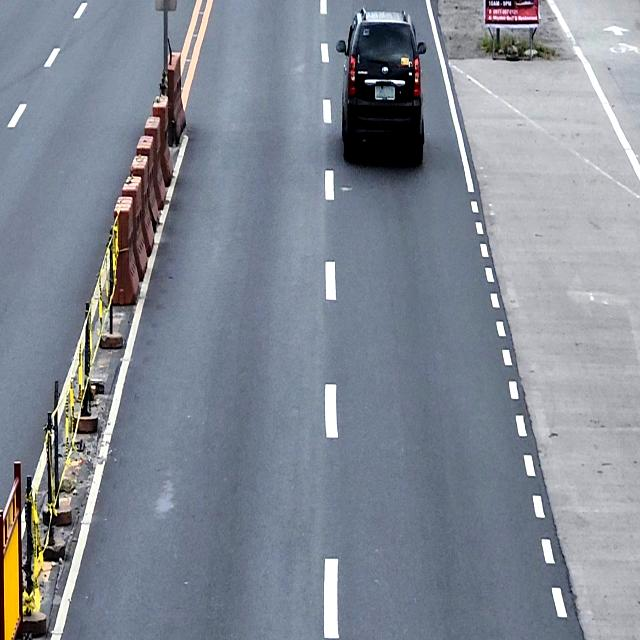Car: (336, 7, 426, 167)
License-Plate: (374, 86, 396, 100)
